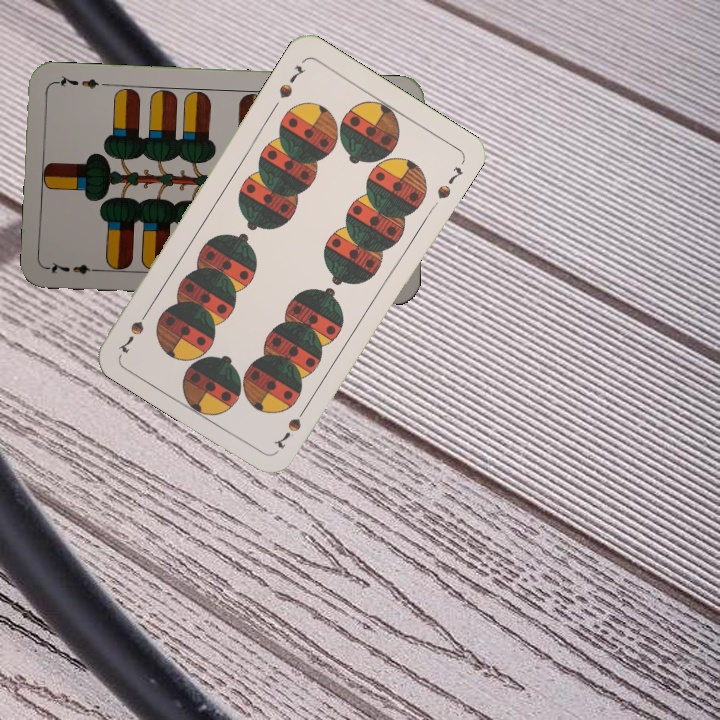E7: (45, 258, 104, 277)
S7: (270, 401, 311, 452), (274, 61, 309, 102)
